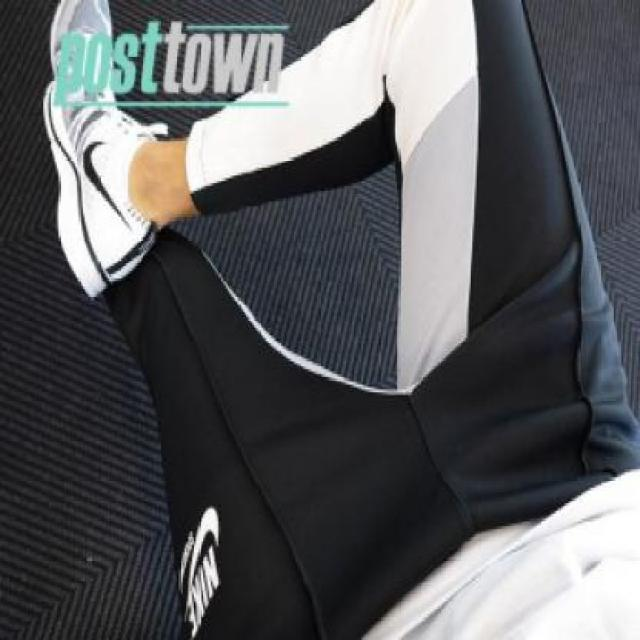Nike: (185, 506, 219, 632)
